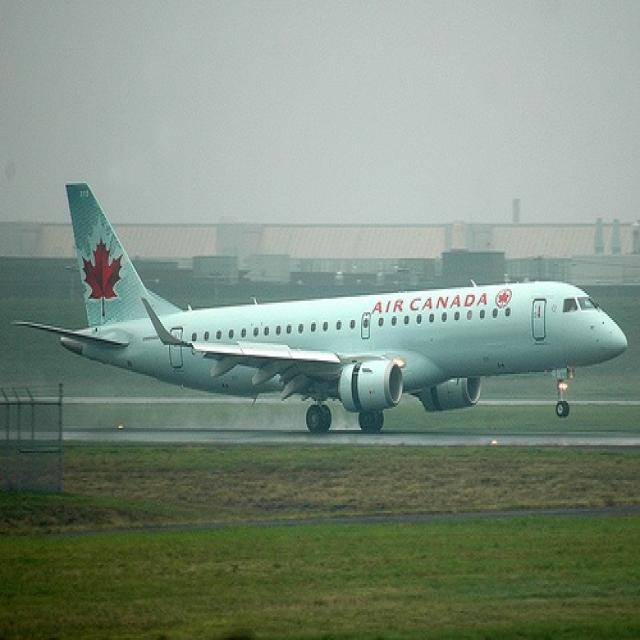aeroplane: (14, 183, 630, 432)
